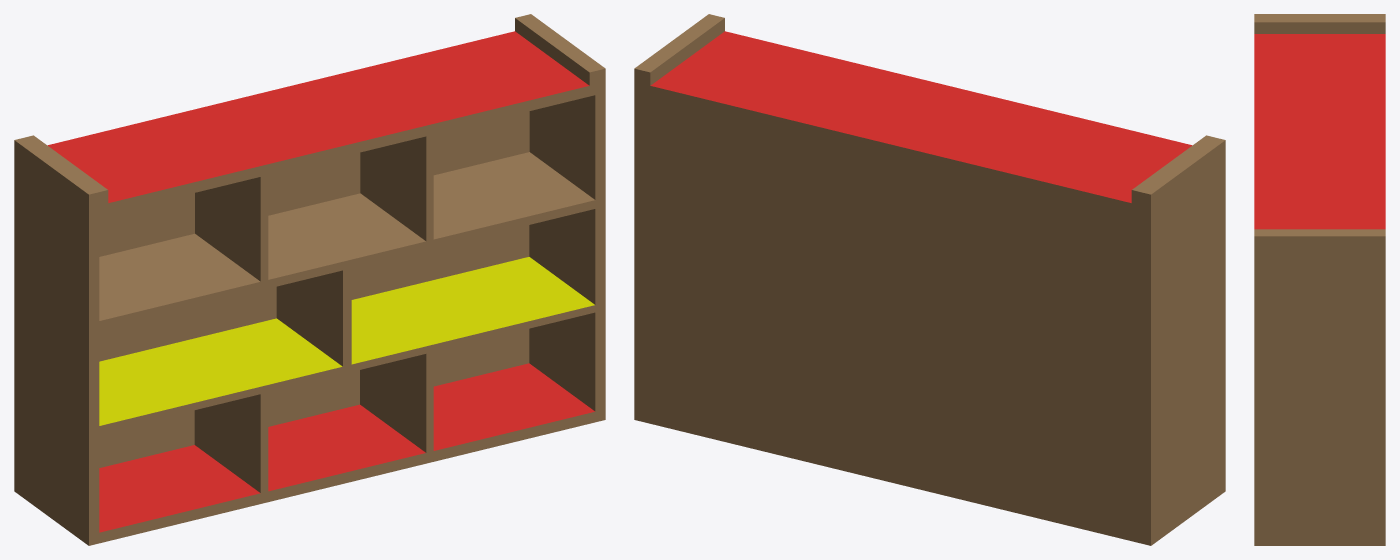
File: rak mainan.fbx
3 views of the same model, side by side, from view 1: azimuth 30°, elevation 25°; view 2: azimuth 150°, elevation 25°; view 3: azimuth 270°, elevation 25° (orthographic). The views are drawn at different scales.
Parts seen in each view (by area): view 1: Cube; view 2: Cube; view 3: Cube.
Boxes of the visible parts, x1,y1,x2,y2 form: Cube: (14,14,605,545); Cube: (634,14,1225,545); Cube: (1254,14,1385,545).
Size of the model in its own units: 320 by 208 by 80.
